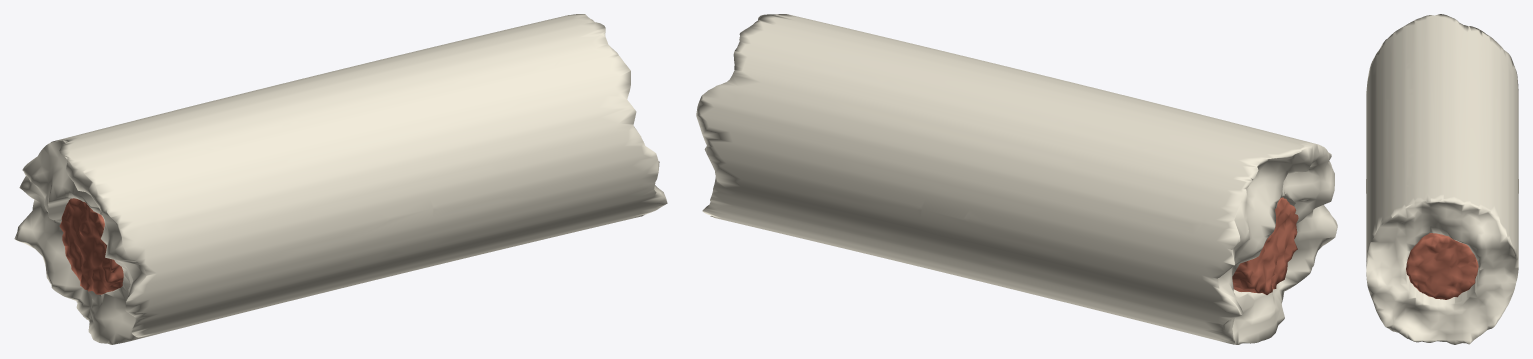
Rendered from fragment.glb.
3 renders of one model, left to right at view 1: azimuth 30°, elevation 25°; view 2: azimuth 150°, elevation 25°; view 3: azimuth 270°, elevation 25°, orthographic. The views are drawn at different scales.
Parts seen in each view (by area): view 1: Fragment, Marrow; view 2: Fragment, Marrow; view 3: Fragment, Marrow.
Boxes of the visible parts, x1,y1,x2,y2 form: Fragment: (14, 14, 667, 344); Marrow: (59, 198, 123, 294); Fragment: (696, 14, 1337, 344); Marrow: (1232, 197, 1298, 294); Fragment: (1366, 14, 1518, 344); Marrow: (1406, 233, 1478, 299).
Bounding box in the file's own units: 0.0709 × 0.0231 × 0.023.
